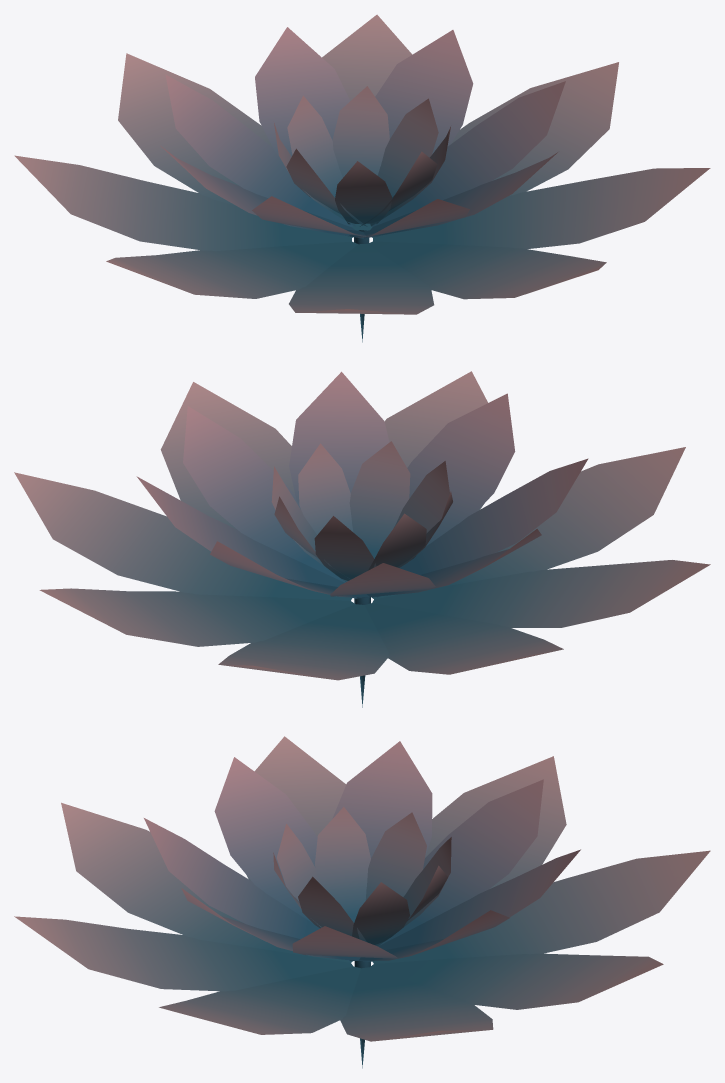
File: plants-cacti-succulents-pink-rosette_v7.glb
The picture shows the model from 3 angles, top to bottom: view 1: azimuth 30°, elevation 25°; view 2: azimuth 150°, elevation 25°; view 3: azimuth 270°, elevation 25°; orthographic projection. The views are drawn at different scales.
Visible parts, largest first — view 1: Pink Rosette_v7; view 2: Pink Rosette_v7; view 3: Pink Rosette_v7.
Part boxes in pixels (x1,y1,x2,y2): Pink Rosette_v7: (14, 14, 710, 342); Pink Rosette_v7: (14, 371, 710, 707); Pink Rosette_v7: (14, 736, 710, 1068).
Size of the model in its own units: 0.25 by 0.0931 by 0.25.
